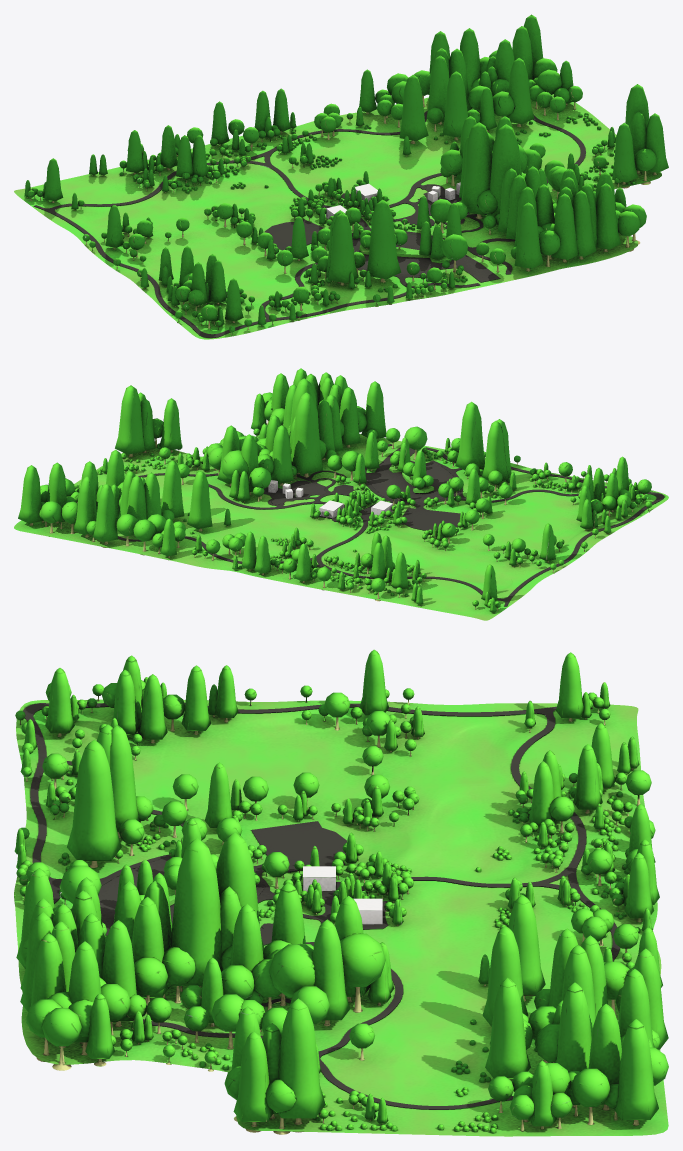
File: park.glb
3 renders of one model, top to bottom at view 1: azimuth 30°, elevation 25°; view 2: azimuth 150°, elevation 25°; view 3: azimuth 270°, elevation 25°, orthographic. The views are drawn at different scales.
Visible parts, largest first — view 1: Object_2, Object_4, Object_3; view 2: Object_4, Object_2, Object_3; view 3: Object_2, Object_4, Object_3.
Part boxes in pixels (box(x1,y1,x2,y2)): Object_2: box(14, 94, 661, 339); Object_4: box(24, 14, 646, 332); Object_3: box(27, 84, 668, 338); Object_4: box(18, 368, 652, 612); Object_2: box(14, 424, 668, 620); Object_3: box(30, 385, 664, 610); Object_2: box(14, 699, 668, 1136); Object_4: box(14, 672, 668, 1126); Object_3: box(20, 649, 652, 1134).
Bounding box in the file's own units: 163 × 30.71 × 110.
Materials: 1 (1 with a texture image).
